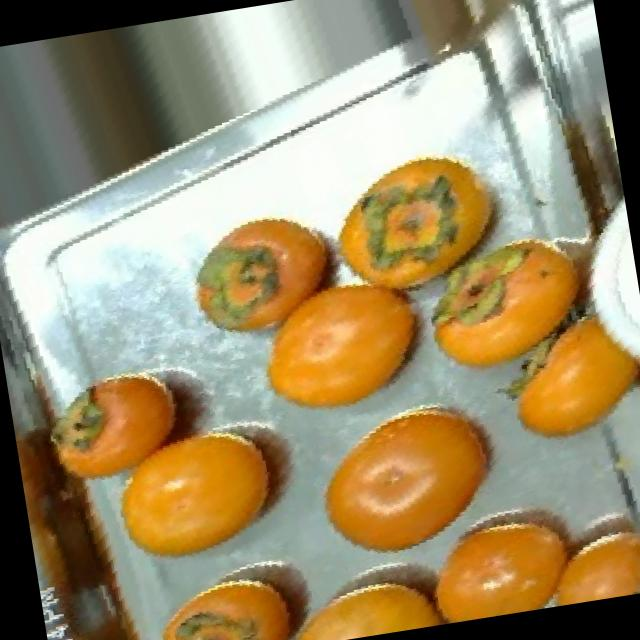Fruit: (288, 382, 532, 582), (84, 394, 318, 588), (394, 204, 628, 396), (232, 253, 458, 440), (302, 124, 533, 301), (160, 181, 374, 360), (483, 295, 640, 464), (134, 545, 333, 640), (365, 0, 548, 93)
